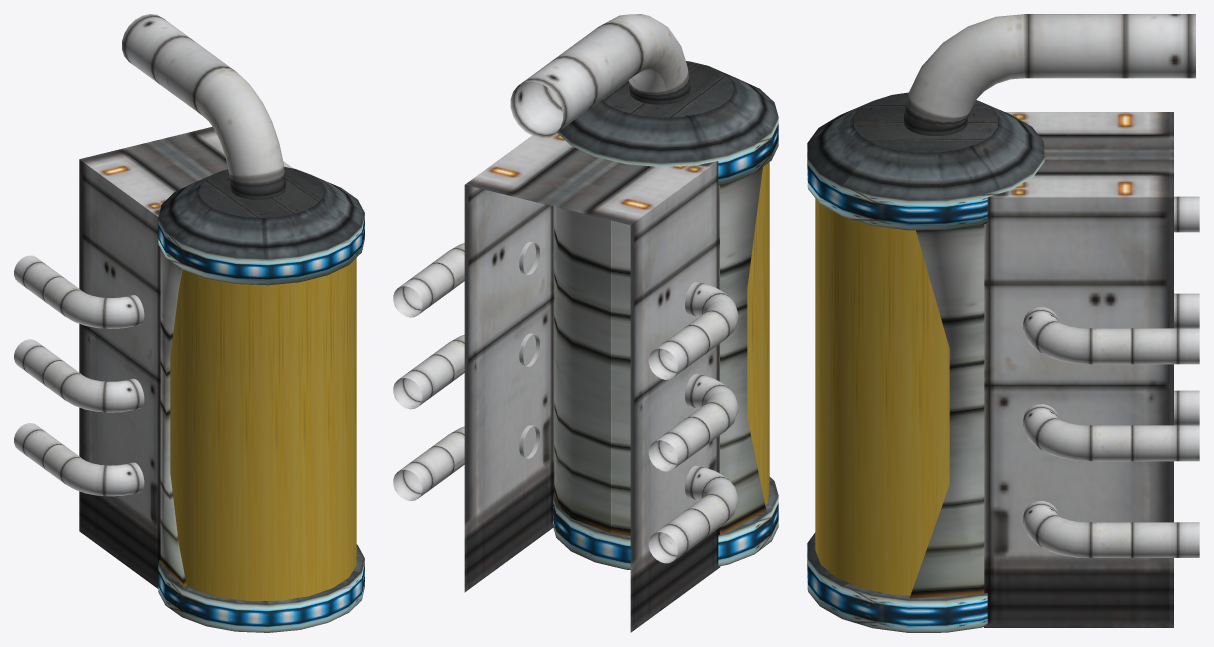
The model's file is encubadorahumana.fbx.
The picture shows the model from 3 angles, left to right: view 1: azimuth 30°, elevation 25°; view 2: azimuth 150°, elevation 25°; view 3: azimuth 270°, elevation 25°; orthographic projection. The views are drawn at different scales.
Visible parts, largest first — view 1: Cylinder.000, glass.001_Untitled.001; view 2: Cylinder.000, glass.001_Untitled.001; view 3: Cylinder.000, glass.001_Untitled.001.
Part boxes in pixels (x1,y1,x2,y2): Cylinder.000: [14, 14, 364, 632]; glass.001_Untitled.001: [170, 258, 356, 601]; Cylinder.000: [393, 14, 778, 632]; glass.001_Untitled.001: [747, 162, 769, 505]; Cylinder.000: [807, 14, 1199, 632]; glass.001_Untitled.001: [815, 198, 949, 595].
Bounding box in the file's own units: 2.14 × 3.87 × 2.42.
